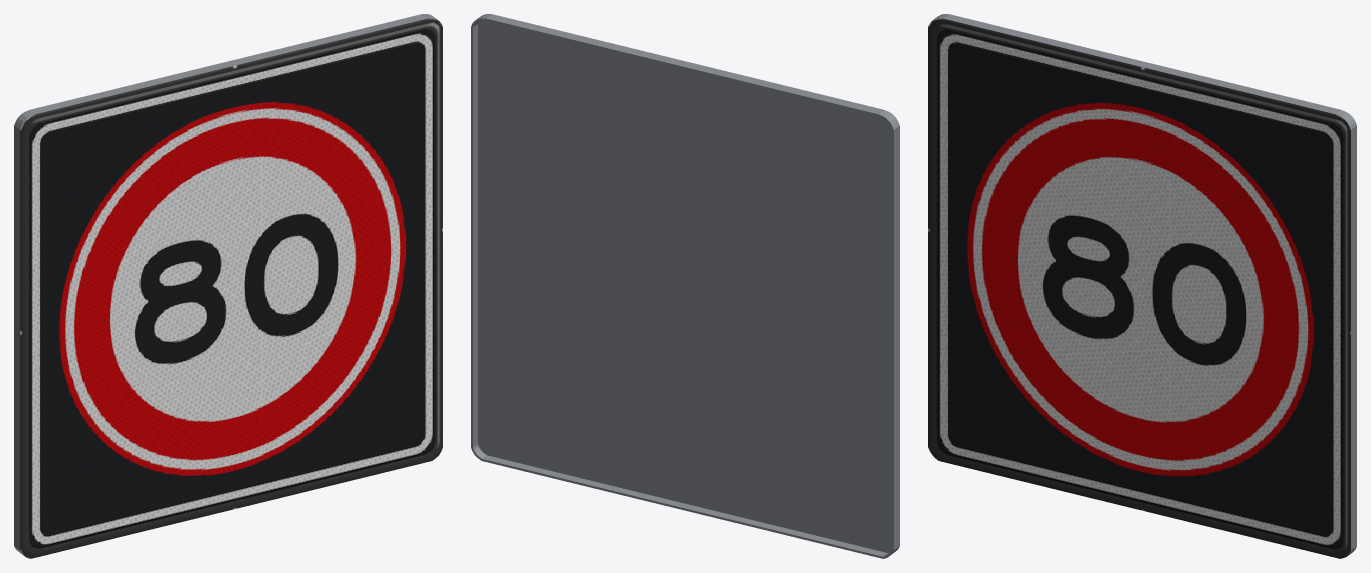
The picture shows the model from 3 angles, left to right: view 1: azimuth 30°, elevation 25°; view 2: azimuth 150°, elevation 25°; view 3: azimuth 330°, elevation 25°; orthographic projection.
Parts seen in each view (by area): view 1: cat_fdd7623ab950969c; view 2: cat_fdd7623ab950969c; view 3: cat_fdd7623ab950969c.
Boxes of the visible parts, x1=… form: cat_fdd7623ab950969c: x1=14, y1=14, x2=442, y2=558; cat_fdd7623ab950969c: x1=471, y1=14, x2=899, y2=558; cat_fdd7623ab950969c: x1=928, y1=14, x2=1356, y2=558.
Size of the model in its own units: 0.6 by 0.015 by 0.6014.
Materials: 2 (1 with a texture image).
